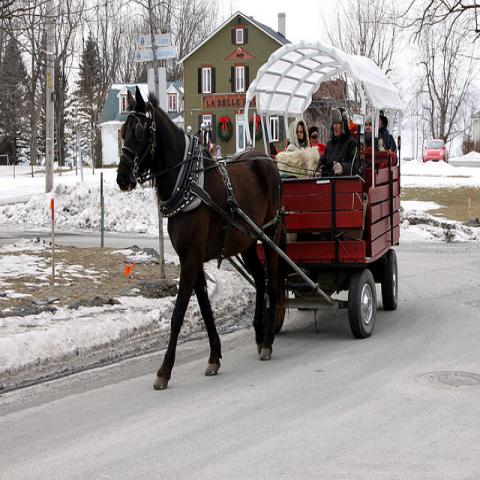car: (424, 140, 447, 163)
